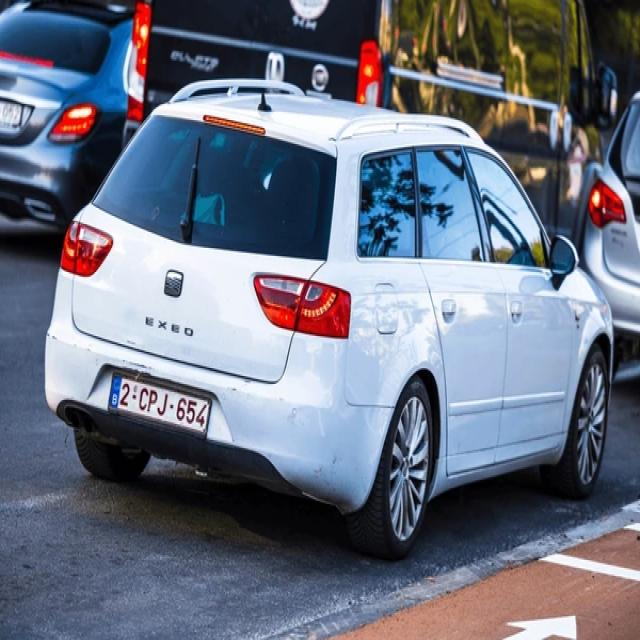seat: (160, 266, 188, 307)
